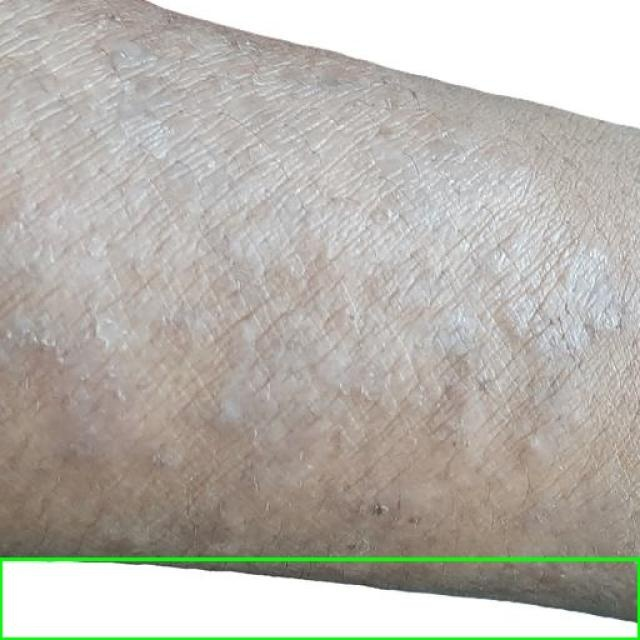Tinea Corporis: (0, 559, 639, 639)
